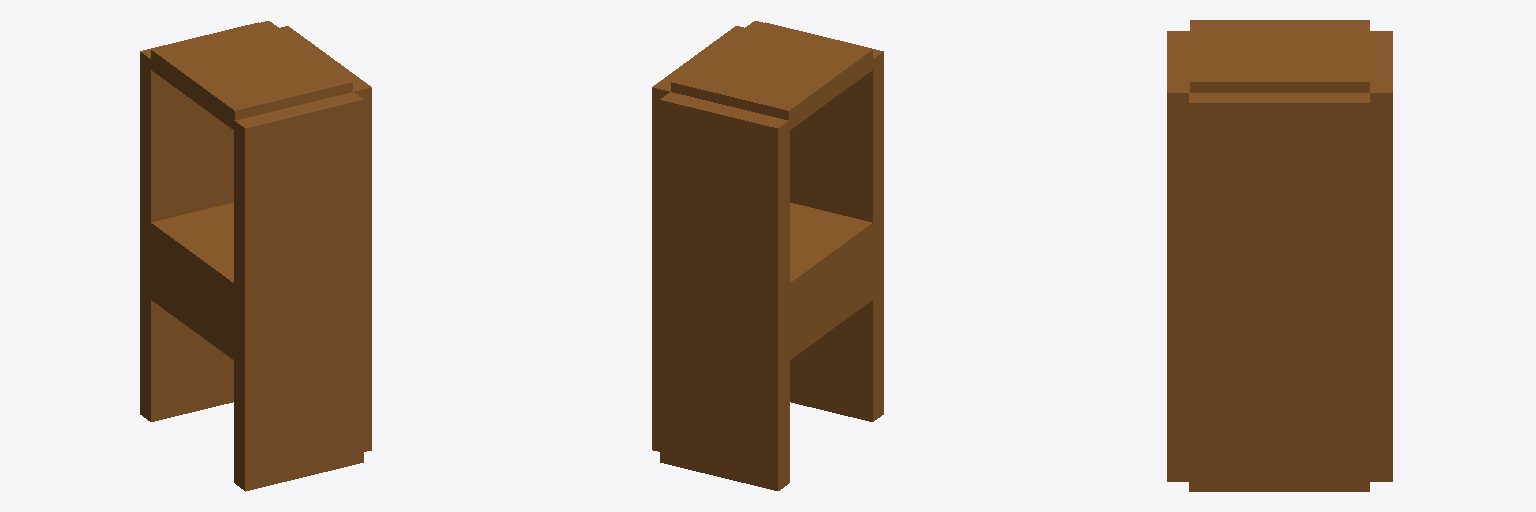
URDF robot description (dummy):
<?xml version="1.0"?>
<robot name="dummy">
  <link name="bottom_wall">
    <visual>
      <origin xyz="0.0 0.0 0.20678622673574235" rpy="0 0 0"/>
      <geometry>
        <mesh filename="bottom_wall.obj" scale="1 1 1"/>
      </geometry>
      <material name="brown">
        <color rgba="0.6 0.4 0.2 1.0"/>
      </material>
    </visual>
    <collision>
      <origin xyz="0.0 0.0 0.20678622673574235" rpy="0 0 0"/>
      <geometry>
        <mesh filename="bottom_wall.obj" scale="1 1 1"/>
      </geometry>
    </collision>
  </link>

  <link name="left_wall">
    <visual>
      <origin xyz="0.0 -0.14399171052560955 0.0" rpy="0 0 0"/>
      <geometry>
        <mesh filename="vertical_wall.obj" scale="1 1 1"/>
      </geometry>
      <material name="brown">
        <color rgba="0.6 0.4 0.2 1.0"/>
      </material>
    </visual>
    <collision>
      <origin xyz="0.0 -0.14399171052560955 0.0" rpy="0 0 0"/>
      <geometry>
        <mesh filename="vertical_wall.obj" scale="1 1 1"/>
      </geometry>
    </collision>
  </link>

  <link name="right_wall">
    <visual>
      <origin xyz="0.0 0.14399171052560955 0.0" rpy="0 0 0"/>
      <geometry>
        <mesh filename="vertical_wall.obj" scale="1 1 1"/>
      </geometry>
      <material name="brown">
        <color rgba="0.6 0.4 0.2 1.0"/>
      </material>
    </visual>
    <collision>
      <origin xyz="0.0 0.14399171052560955 0.0" rpy="0 0 0"/>
      <geometry>
        <mesh filename="vertical_wall.obj" scale="1 1 1"/>
      </geometry>
    </collision>
  </link>

  <link name="back_wall">
    <visual>
      <origin xyz="0.11971767225921226 0.0 0.0" rpy="0 0 0"/>
      <geometry>
        <mesh filename="back_wall.obj" scale="1 1 1"/>
      </geometry>
      <material name="brown">
        <color rgba="0.6 0.4 0.2 1.0"/>
      </material>
    </visual>
    <collision>
      <origin xyz="0.11971767225921226 0.0 0.0" rpy="0 0 0"/>
      <geometry>
        <mesh filename="back_wall.obj" scale="1 1 1"/>
      </geometry>
    </collision>
  </link>

  <link name="top_wall">
    <visual>
      <origin xyz="0.0 0.0 0.5930775578466962" rpy="0 0 0"/>
      <geometry>
        <mesh filename="top_wall.obj" scale="1 1 1"/>
      </geometry>
      <material name="brown">
        <color rgba="0.6 0.4 0.2 1.0"/>
      </material>
    </visual>
    <collision>
      <origin xyz="0.0 0.0 0.5930775578466962" rpy="0 0 0"/>
      <geometry>
        <mesh filename="top_wall.obj" scale="1 1 1"/>
      </geometry>
    </collision>
  </link>

  <joint name="left_wall_joint" type="fixed">
    <origin xyz="0 0 0" rpy="0 0 0"/>
    <parent link="bottom_wall"/>
    <child link="left_wall"/>
  </joint>

  <joint name="right_wall_joint" type="fixed">
    <origin xyz="0 0 0" rpy="0 0 0"/>
    <parent link="bottom_wall"/>
    <child link="right_wall"/>
  </joint>

  <joint name="back_wall_joint" type="fixed">
    <origin xyz="0 0 0" rpy="0 0 0"/>
    <parent link="bottom_wall"/>
    <child link="back_wall"/>
  </joint>

  <joint name="top_wall_joint" type="fixed">
    <origin xyz="0 0 0" rpy="0 0 0"/>
    <parent link="bottom_wall"/>
    <child link="top_wall"/>
  </joint>

</robot>

--- Render facts (derived) ---
Views: 3 orthographic renders of the robot side by side, from view 1: azimuth 30°, elevation 25°; view 2: azimuth 150°, elevation 25°; view 3: azimuth 270°, elevation 25°.
Model dummy with 5 links and 4 joints (4 fixed), rooted at bottom_wall, posed every joint at zero.
Visible links, largest first — view 1: left_wall, right_wall, top_wall, bottom_wall, back_wall; view 2: right_wall, left_wall, top_wall, bottom_wall, back_wall; view 3: back_wall, top_wall, right_wall, left_wall.
Boxes of the visible links, x1,y1,x2,y2 form: left_wall: [234, 92, 363, 491]; right_wall: [140, 22, 258, 421]; top_wall: [151, 21, 352, 129]; bottom_wall: [150, 202, 234, 360]; back_wall: [280, 26, 371, 451]; right_wall: [660, 92, 789, 490]; left_wall: [765, 22, 883, 421]; top_wall: [671, 21, 872, 129]; bottom_wall: [789, 203, 873, 360]; back_wall: [652, 26, 743, 451]; back_wall: [1189, 93, 1369, 491]; top_wall: [1190, 20, 1369, 92]; right_wall: [1370, 31, 1392, 481]; left_wall: [1167, 31, 1189, 481].
Bounding box of the posed robot: 0.2419 × 0.3223 × 0.6274 m (x, y, z).
5 mesh visuals loaded from 4 distinct referenced files (4 OBJ).
